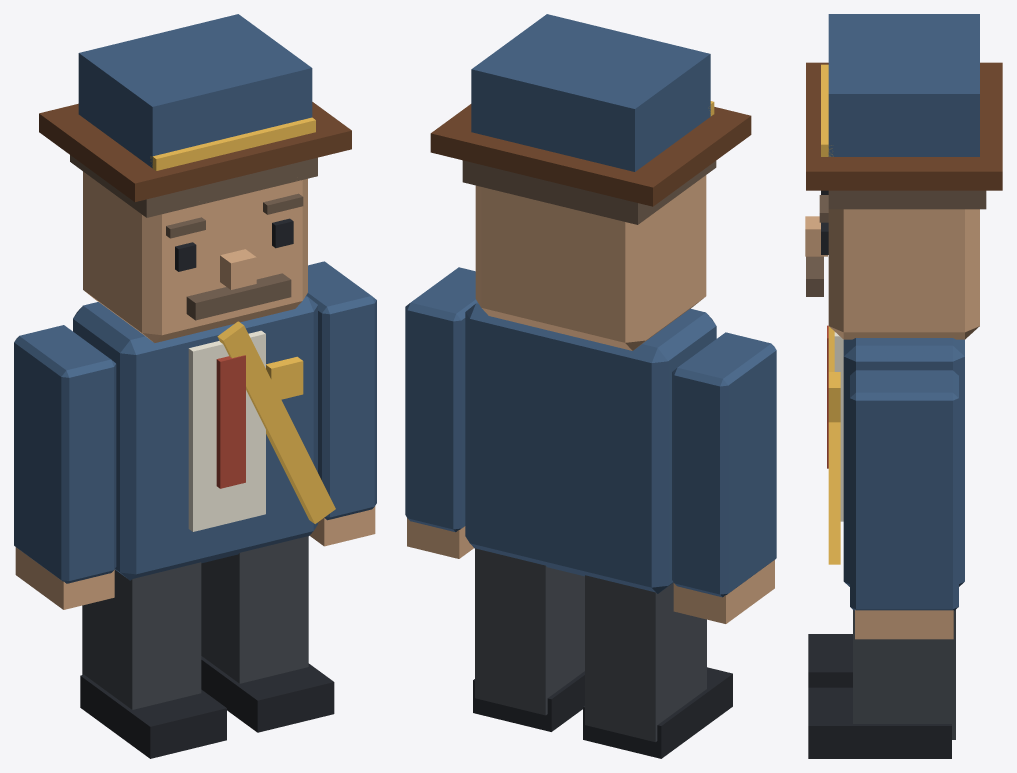
Rendered from Mayor_NPC.fbx.
The picture shows the model from 3 angles, left to right: view 1: azimuth 30°, elevation 25°; view 2: azimuth 150°, elevation 25°; view 3: azimuth 270°, elevation 25°; orthographic projection. The views are drawn at different scales.
Visible parts, largest first — view 1: Mayor_Torso, Mayor_Hat, Mayor_Arm, Mayor_Head, Mayor_Leg, Mayor_Arm.001, Mayor_Leg.001, Mayor_Hat_Brim, Mayor_Shirt, Mayor_Shoe, Mayor_Shoe.001, Mayor_Sash (+8 smaller); view 2: Mayor_Torso, Mayor_Head, Mayor_Hat, Mayor_Arm, Mayor_Leg, Mayor_Leg.001, Mayor_Arm.001, Mayor_Hat_Brim, Mayor_Hair, Mayor_Shoe, Mayor_Hand, Mayor_Shoe.001 (+1 smaller); view 3: Mayor_Arm.001, Mayor_Hat, Mayor_Head, Mayor_Hat_Brim, Mayor_Leg.001, Mayor_Torso, Mayor_Shoe.001, Mayor_Hair, Mayor_Hand.001, Mayor_Shoe, Mayor_Sash, Mayor_Shirt (+4 smaller).
Boxes of the visible parts, <box> form: Mayor_Torso: <box>73,295,317,580</box>; Mayor_Hat: <box>78,14,312,168</box>; Mayor_Arm: <box>14,325,116,583</box>; Mayor_Head: <box>83,171,307,342</box>; Mayor_Leg: <box>82,562,201,709</box>; Mayor_Arm.001: <box>306,261,376,520</box>; Mayor_Leg.001: <box>201,536,308,683</box>; Mayor_Hat_Brim: <box>39,102,351,201</box>; Mayor_Shirt: <box>188,330,265,531</box>; Mayor_Shoe: <box>80,674,226,758</box>; Mayor_Shoe.001: <box>201,656,334,732</box>; Mayor_Sash: <box>217,321,335,523</box>; Mayor_Torso: <box>465,302,716,593</box>; Mayor_Head: <box>475,175,706,350</box>; Mayor_Hat: <box>471,14,710,171</box>; Mayor_Arm: <box>672,332,776,597</box>; Mayor_Leg: <box>585,575,706,742</box>; Mayor_Leg.001: <box>475,548,584,715</box>; Mayor_Arm.001: <box>405,267,477,532</box>; Mayor_Hat_Brim: <box>430,104,751,206</box>; Mayor_Hair: <box>462,160,716,224</box>; Mayor_Shoe: <box>583,667,732,758</box>; Mayor_Hand: <box>673,560,774,623</box>; Mayor_Shoe.001: <box>473,671,584,731</box>; Mayor_Arm.001: <box>850,370,958,610</box>; Mayor_Hat: <box>828,14,979,156</box>; Mayor_Head: <box>828,209,979,339</box>; Mayor_Hat_Brim: <box>806,62,1002,190</box>; Mayor_Leg.001: <box>853,610,955,739</box>; Mayor_Torso: <box>843,338,964,586</box>; Mayor_Shoe.001: <box>808,687,951,758</box>; Mayor_Hair: <box>828,190,986,209</box>; Mayor_Hand.001: <box>855,610,953,639</box>; Mayor_Shoe: <box>808,634,852,687</box>; Mayor_Sash: <box>828,326,840,564</box>; Mayor_Shirt: <box>834,332,843,521</box>.
Size of the model in its own units: 247 by 480 by 131.
